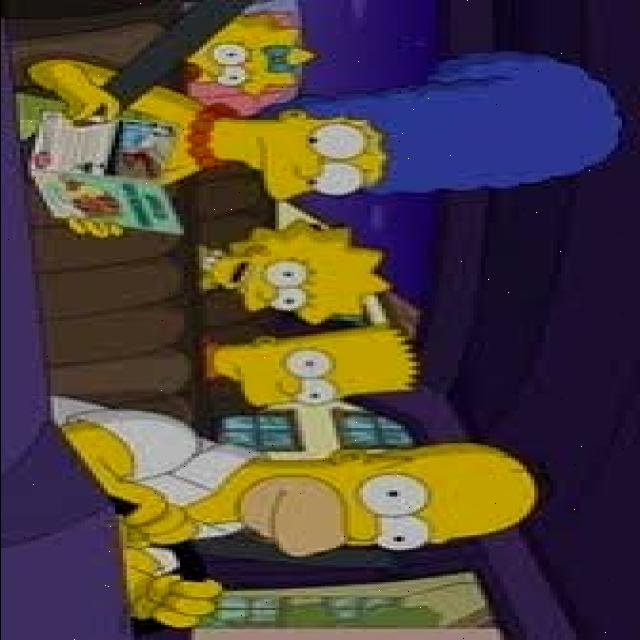Bart Simpson: (194, 318, 430, 414)
Homer Simpson: (190, 434, 572, 562)
Lisa Simpson: (196, 214, 398, 330)
Maggie Simpson: (162, 17, 318, 103)
Marge Simpson: (173, 43, 634, 205)
